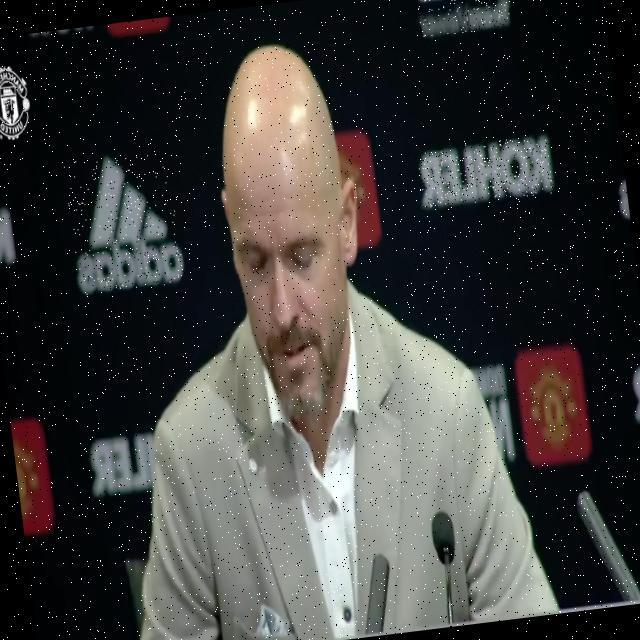Adidas: (63, 149, 186, 296)
Kohler: (416, 134, 554, 209)
TeamViewer: (415, 0, 511, 38)
